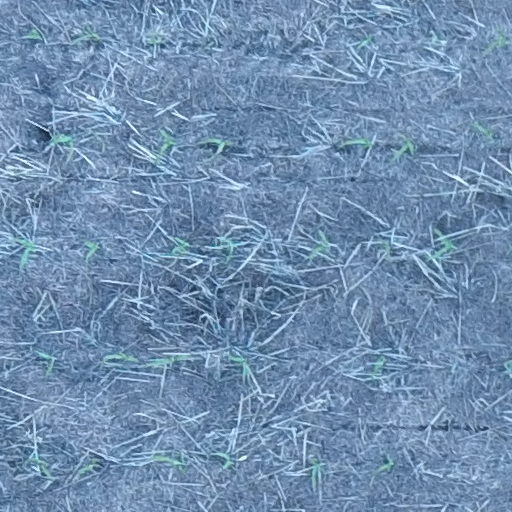planta: (423, 227, 453, 260), (150, 453, 186, 473), (154, 129, 173, 163), (15, 237, 36, 266), (484, 25, 506, 52), (308, 232, 328, 261), (51, 135, 73, 161), (391, 138, 415, 161), (26, 456, 53, 476), (149, 354, 190, 367), (227, 354, 248, 377), (166, 237, 189, 257), (37, 351, 56, 375), (472, 122, 495, 140), (102, 352, 139, 363), (220, 235, 234, 264), (345, 136, 372, 151), (373, 239, 391, 261), (78, 26, 102, 42), (204, 138, 225, 156), (371, 356, 387, 379), (78, 458, 98, 475), (376, 456, 395, 473), (83, 239, 99, 257), (311, 457, 322, 482), (356, 35, 373, 50), (218, 451, 230, 469), (26, 28, 41, 39), (146, 33, 158, 45)
